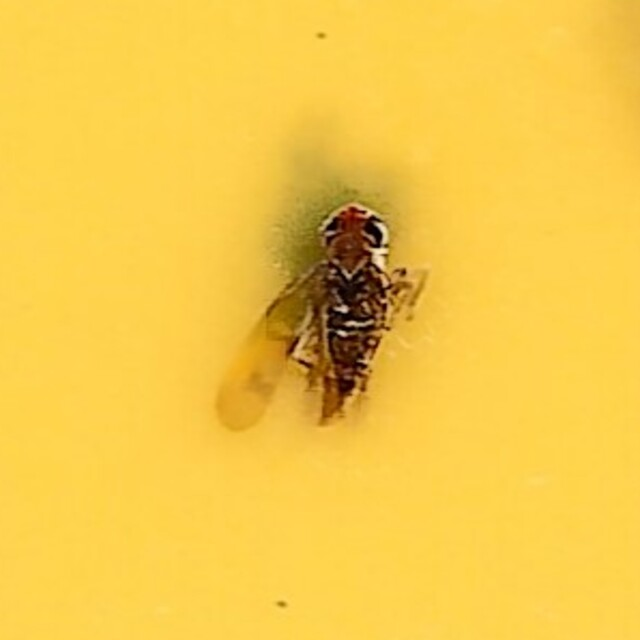Hemiptera: (215, 197, 425, 443)
